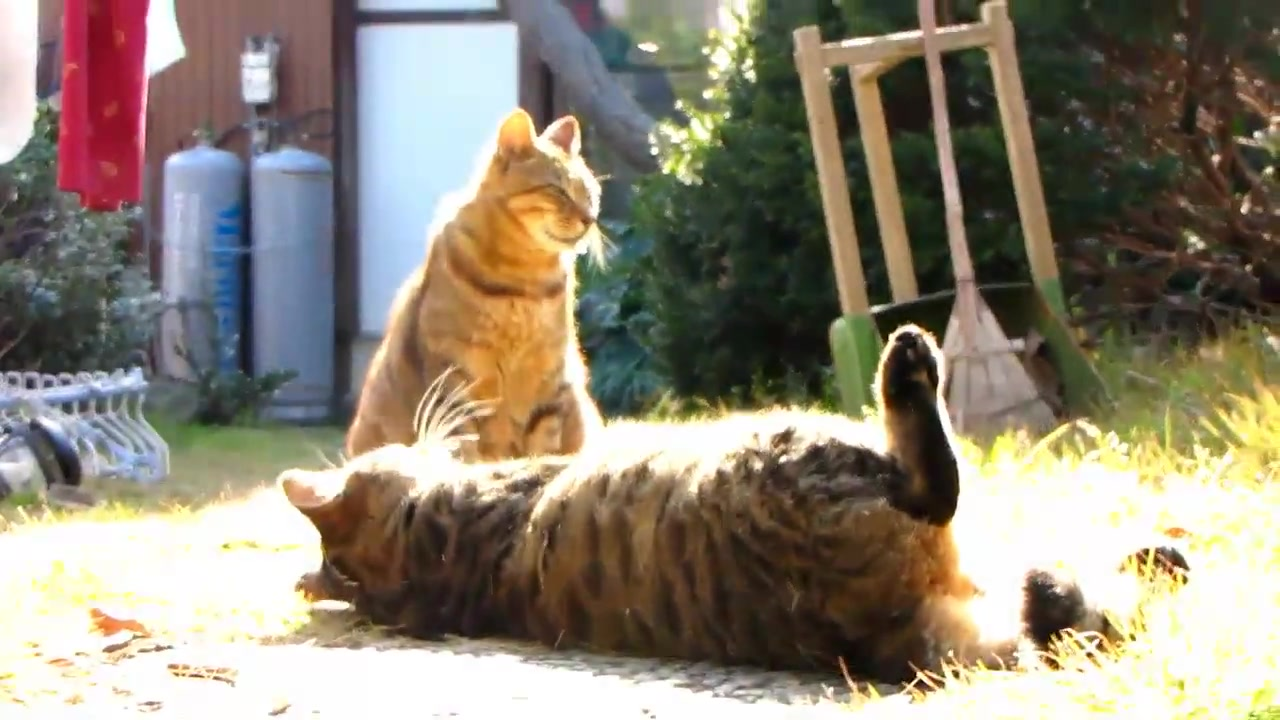cat: (283, 323, 1188, 692), (343, 109, 610, 468)
